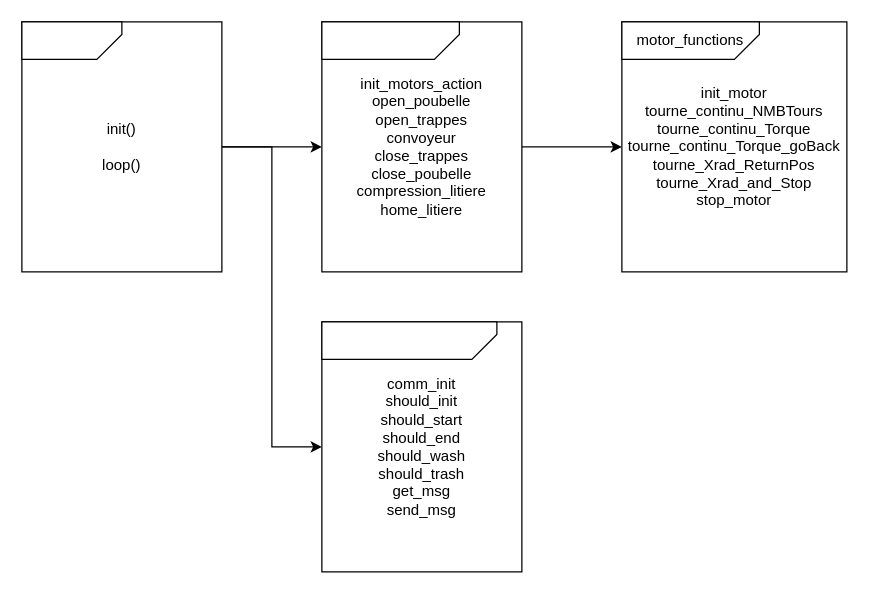
This 869x594 diagram has some shape labels left out. The shapes that lost their labels are listed below. From the top down, each one's centre as x and y in pixels, then its label:
point (71, 40): main
point (390, 40): action_functions
point (409, 340): serialcomm_functions
